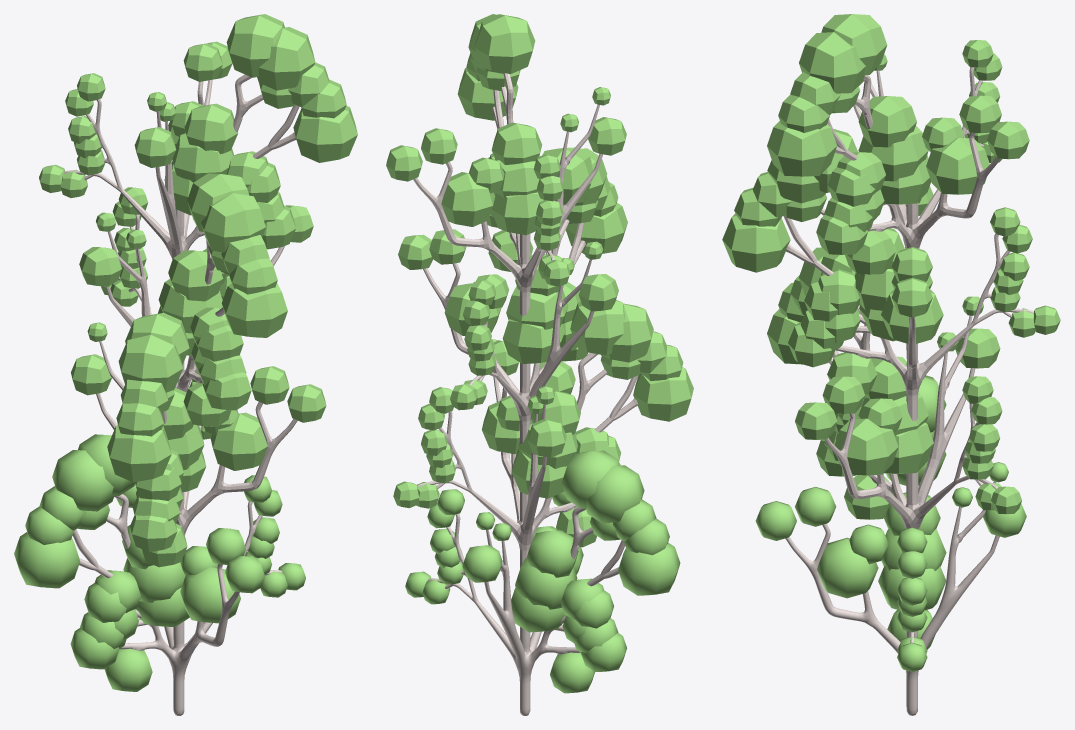
Rendered from large_tree.fbx.
3 renders of one model, left to right at view 1: azimuth 30°, elevation 25°; view 2: azimuth 150°, elevation 25°; view 3: azimuth 270°, elevation 25°, orthographic. The views are drawn at different scales.
Parts seen in each view (by area): view 1: Vert.004, Vert.007, Vert.006, Vert.005, Vert.003, Vert, Vert.001, Vert.002; view 2: Vert.004, Vert.007, Vert.005, Vert.006, Vert.001, Vert, Vert.003, Vert.002; view 3: Vert.007, Vert.006, Vert.005, Vert.004, Vert.001, Vert, Vert.003, Vert.002.
Boxes of the visible parts, left/top/right/bottom form: Vert.004: left=14, top=434, right=305, bottom=691; Vert.007: left=39, top=14, right=357, bottom=274; Vert.006: left=79, top=173, right=313, bottom=426; Vert.005: left=71, top=312, right=326, bottom=567; Vert.003: left=63, top=74, right=299, bottom=259; Vert: left=72, top=494, right=282, bottom=715; Vert.001: left=96, top=341, right=297, bottom=535; Vert.002: left=105, top=214, right=284, bottom=392; Vert.004: left=405, top=450, right=680, bottom=693; Vert.007: left=386, top=14, right=626, bottom=286; Vert.005: left=393, top=300, right=693, bottom=547; Vert.006: left=398, top=147, right=627, bottom=410; Vert.001: left=417, top=353, right=638, bottom=568; Vert: left=427, top=507, right=624, bottom=715; Vert.003: left=413, top=73, right=603, bottom=315; Vert.002: left=423, top=204, right=594, bottom=443; Vert.007: left=767, top=14, right=1029, bottom=274; Vert.006: left=722, top=129, right=1060, bottom=394; Vert.005: left=767, top=247, right=1021, bottom=519; Vert.004: left=755, top=375, right=1026, bottom=671; Vert.001: left=824, top=305, right=997, bottom=529; Vert: left=785, top=481, right=999, bottom=715; Vert.003: left=827, top=67, right=999, bottom=248; Vert.002: left=783, top=208, right=1033, bottom=420.
Bounding box in the file's own units: 1119 × 2589 × 1093.
